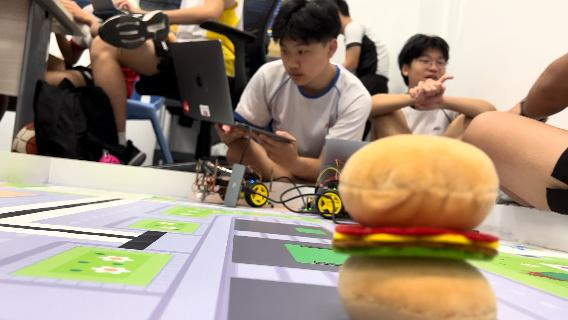burger: (334, 134, 506, 318)
